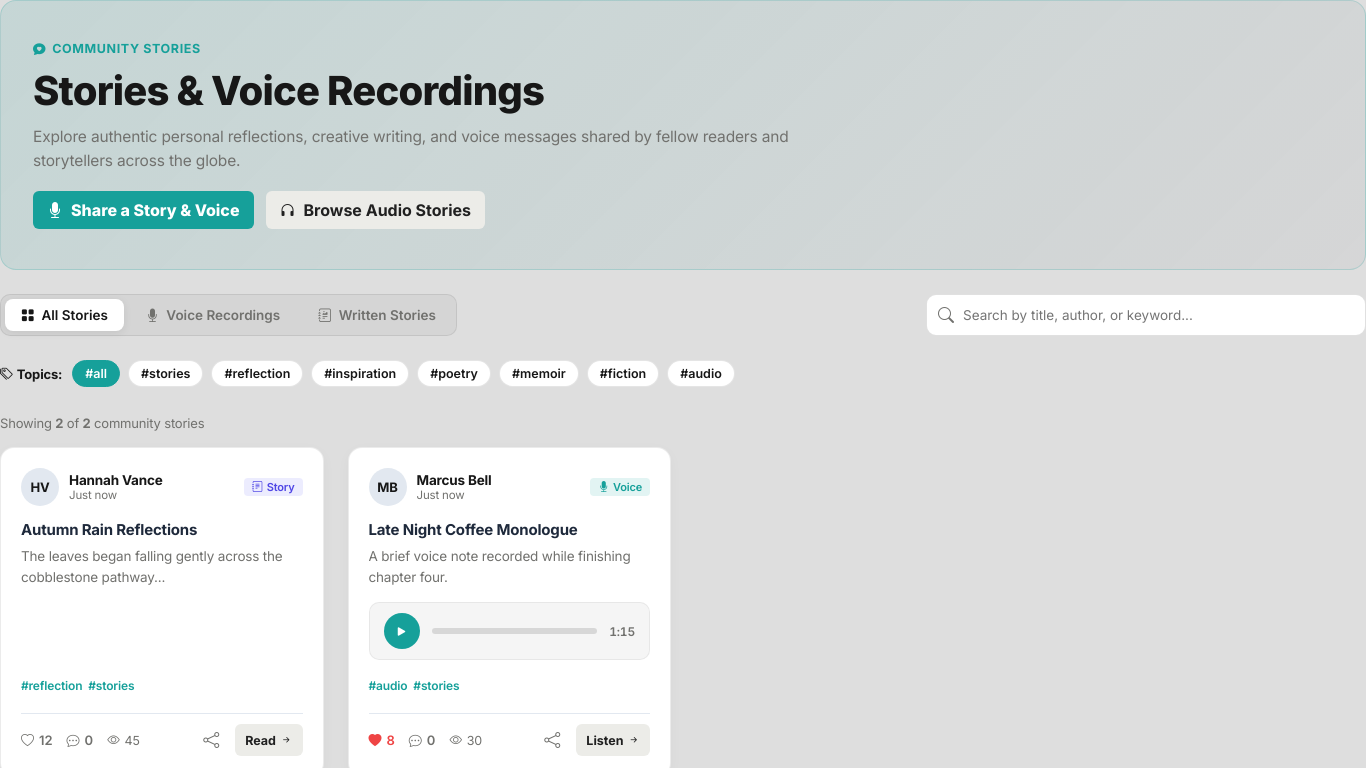
StoriesPage - Community Stories and Voice Recordings › clicking on a story opens the story reader modal with full details
Click the heading "Autumn Rain Reflections" at [109, 530], box [21, 520, 197, 539]
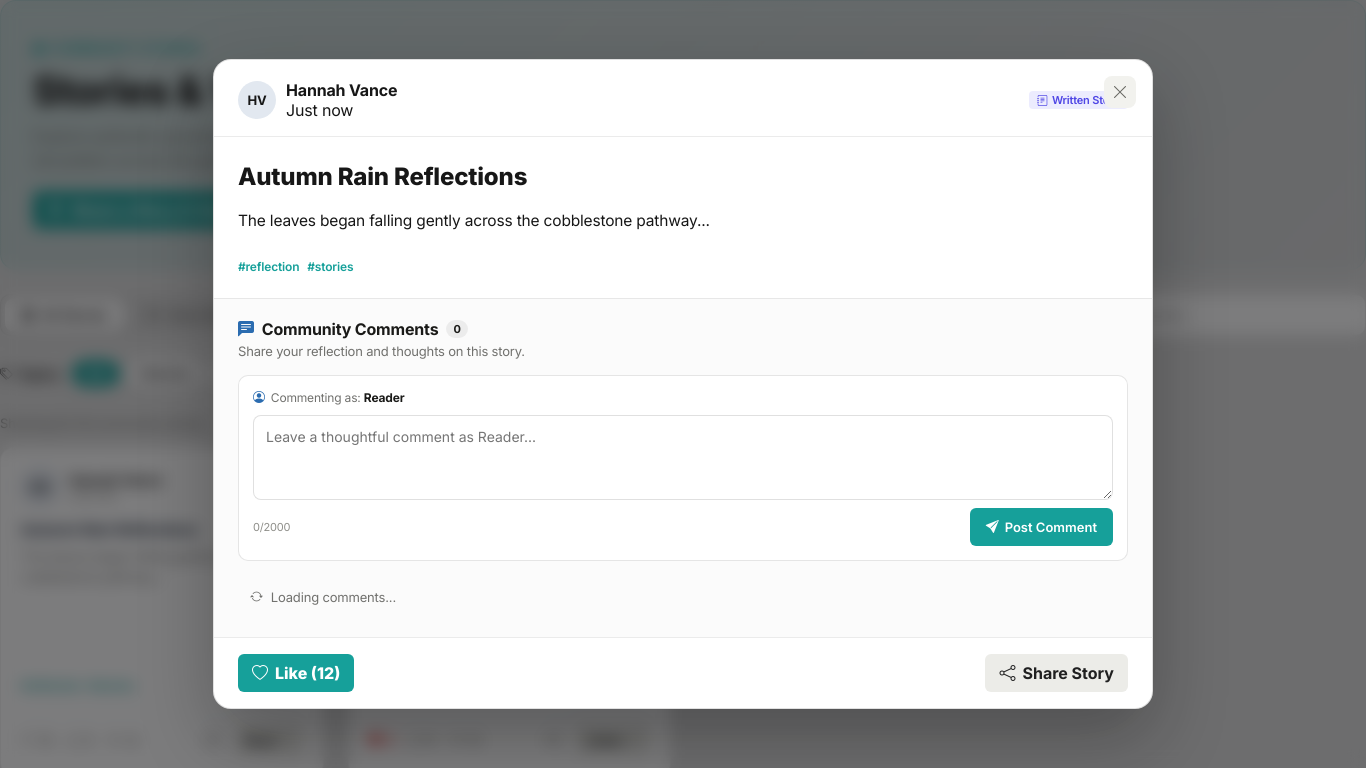
Result: the dialog is shown
Click the button named "Close story" at [1120, 92], box [1104, 76, 1136, 108]
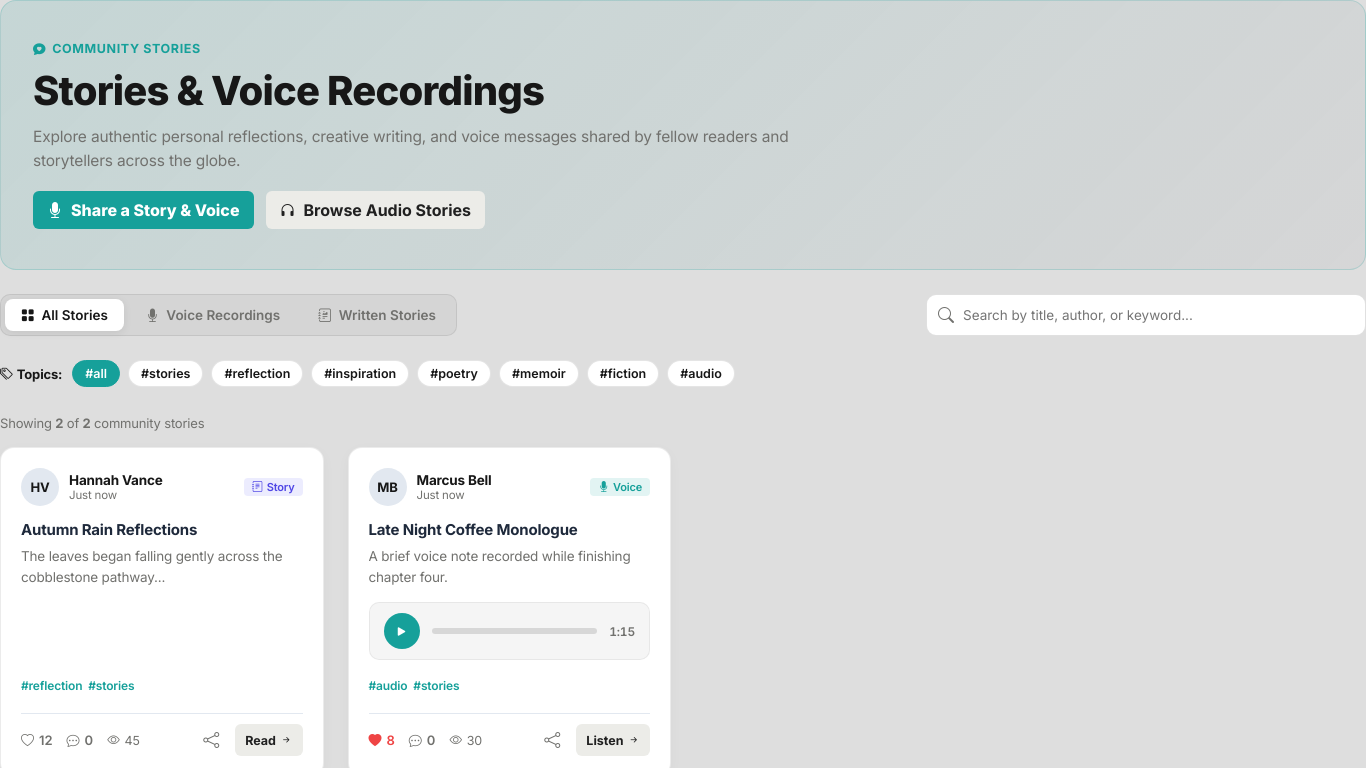
Result: the dialog is gone
